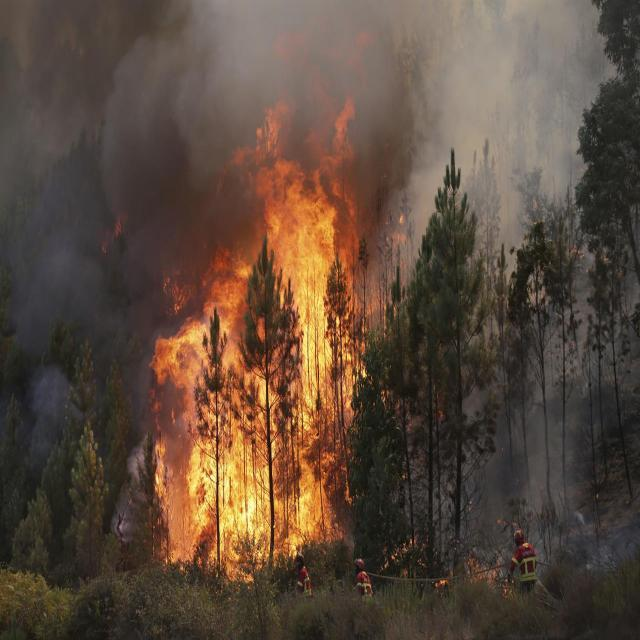Fire: (114, 101, 412, 582)
Smoke: (120, 7, 600, 202)
